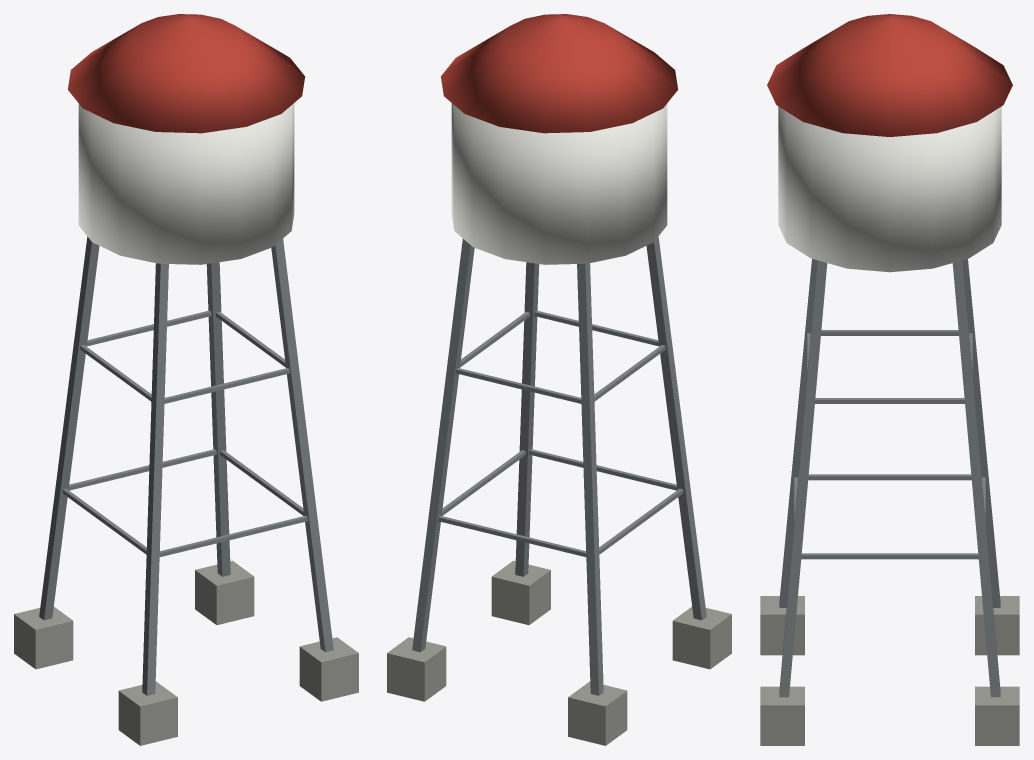
The model's file is village-water-tower.glb.
3 views of the same model, side by side, from view 1: azimuth 30°, elevation 25°; view 2: azimuth 150°, elevation 25°; view 3: azimuth 270°, elevation 25° (orthographic). The views are drawn at different scales.
Visible parts, largest first — view 1: village-water-tower: Palm Bay white, village-water-tower: Palm Bay steel, village-water-tower: Palm Bay red, village-water-tower: Palm Bay concrete; view 2: village-water-tower: Palm Bay white, village-water-tower: Palm Bay steel, village-water-tower: Palm Bay red, village-water-tower: Palm Bay concrete; view 3: village-water-tower: Palm Bay white, village-water-tower: Palm Bay red, village-water-tower: Palm Bay steel, village-water-tower: Palm Bay concrete.
Boxes of the visible parts, x1,y1,x2,y2 form: village-water-tower: Palm Bay white: (78,103,294,264); village-water-tower: Palm Bay steel: (39,236,333,695); village-water-tower: Palm Bay red: (68,14,305,133); village-water-tower: Palm Bay concrete: (14,560,358,745); village-water-tower: Palm Bay white: (451,103,667,264); village-water-tower: Palm Bay steel: (412,236,706,695); village-water-tower: Palm Bay red: (440,14,677,133); village-water-tower: Palm Bay concrete: (387,560,731,745); village-water-tower: Palm Bay white: (778,106,1001,272); village-water-tower: Palm Bay red: (767,14,1012,136); village-water-tower: Palm Bay steel: (779,259,1000,697); village-water-tower: Palm Bay concrete: (760,596,1019,745).
Bounding box in the file's own units: 5.8 × 16.6 × 5.8.
